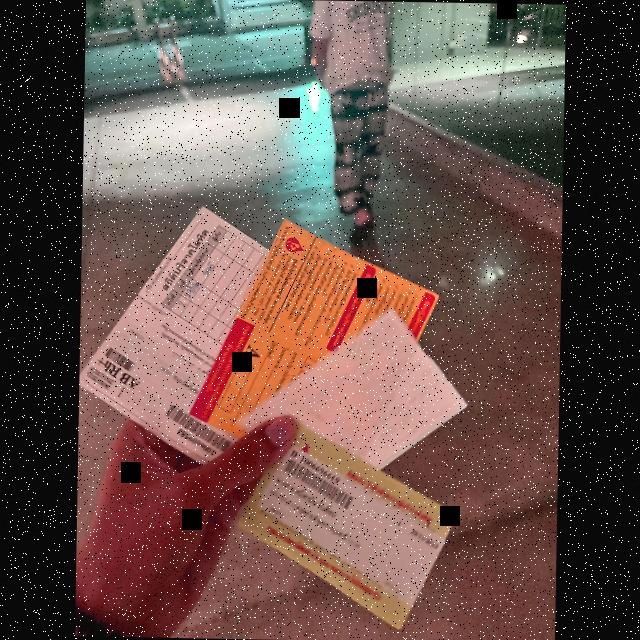scrap_paper: (192, 214, 445, 473), (77, 198, 302, 478), (234, 418, 461, 629), (239, 305, 470, 488)
